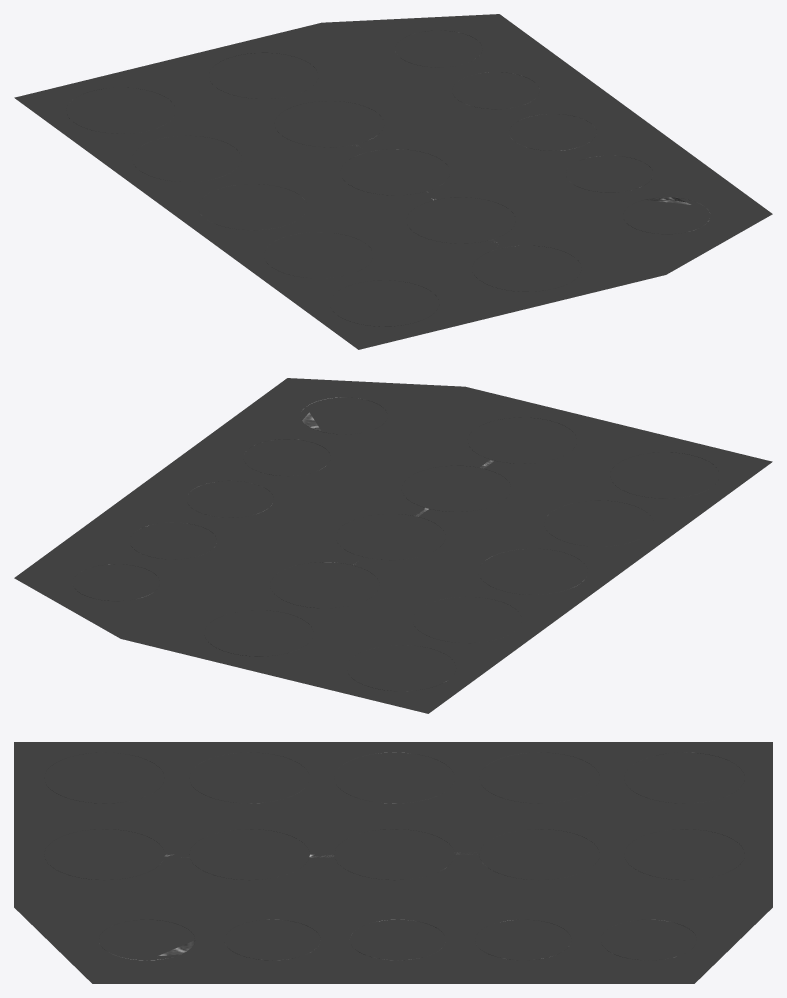
The model's file is MIGPanel.fbx.
3 renders of one model, top to bottom at view 1: azimuth 30°, elevation 25°; view 2: azimuth 150°, elevation 25°; view 3: azimuth 270°, elevation 25°, orthographic. The views are drawn at different scales.
Parts seen in each view (by area): view 1: Cylinder.022; view 2: Cylinder.022; view 3: Cylinder.022.
Part boxes in pixels (x1,y1,x2,y2): Cylinder.022: (14, 14, 772, 349); Cylinder.022: (14, 378, 772, 713); Cylinder.022: (14, 742, 772, 983).
Size of the model in its own units: 256 by 2.89 by 339.
Materials: 2 (1 with a texture image).
